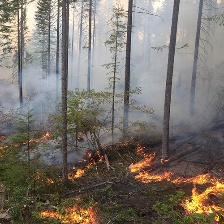fire: (132, 152, 224, 216), (38, 203, 104, 224), (67, 146, 105, 181), (1, 134, 51, 155)
smoke: (5, 3, 224, 130)
